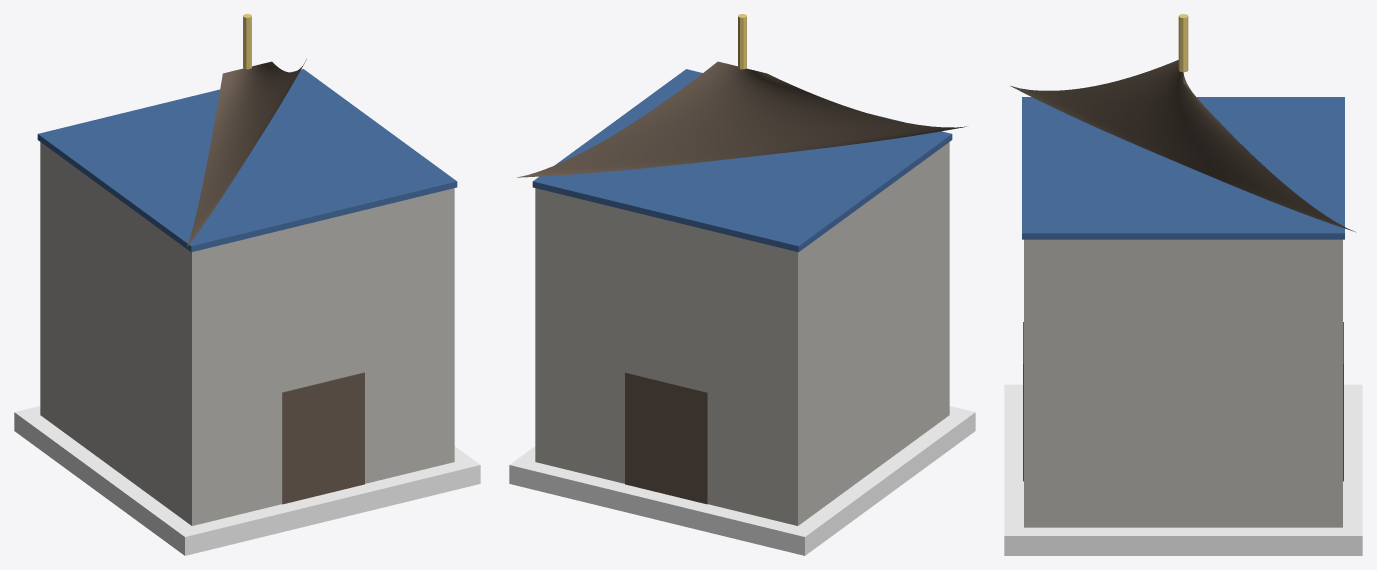
Rendered from zhonglou.glb.
3 renders of one model, left to right at view 1: azimuth 30°, elevation 25°; view 2: azimuth 150°, elevation 25°; view 3: azimuth 270°, elevation 25°, orthographic. The views are drawn at different scales.
Visible parts, largest first — view 1: zhonglou; view 2: zhonglou; view 3: zhonglou.
Boxes of the visible parts, x1=… form: zhonglou: x1=14, y1=14, x2=480, y2=555; zhonglou: x1=509, y1=14, x2=975, y2=555; zhonglou: x1=1004, y1=14, x2=1362, y2=555.
Size of the model in its own units: 36 by 51.4 by 36.
